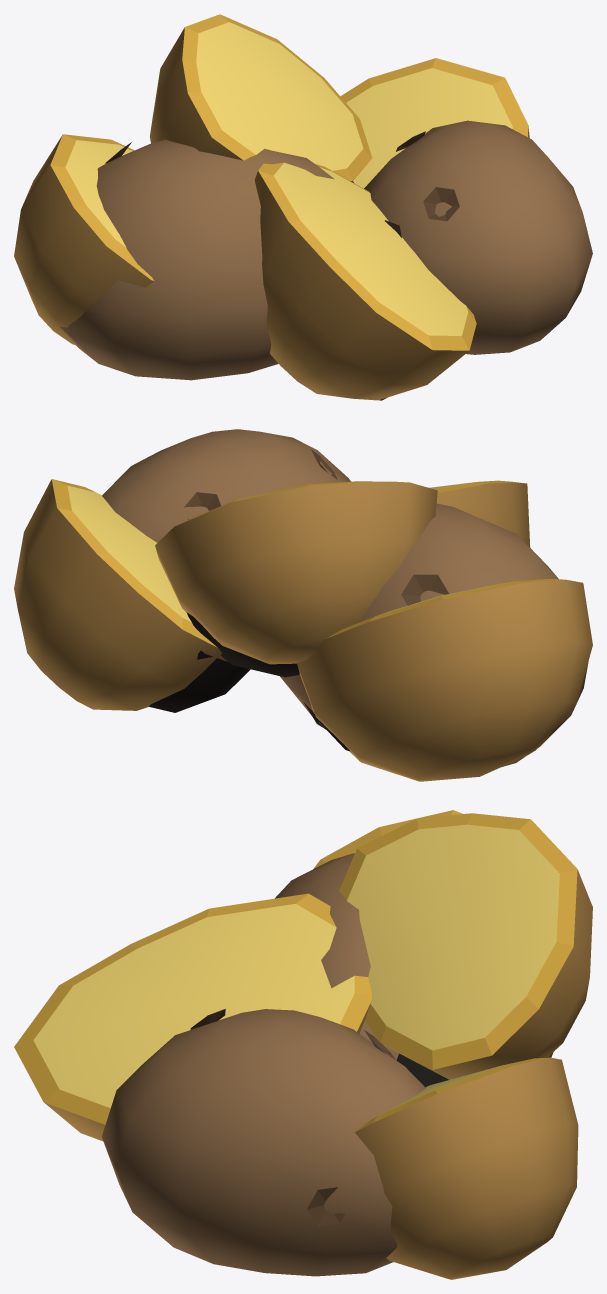
Rendered from cachelos.glb.
The picture shows the model from 3 angles, top to bottom: view 1: azimuth 30°, elevation 25°; view 2: azimuth 150°, elevation 25°; view 3: azimuth 270°, elevation 25°; orthographic projection. The views are drawn at different scales.
Parts seen in each view (by area): view 1: cachelos_cooked, cachelos_raw; view 2: cachelos_cooked, cachelos_raw, cachelos_burnt; view 3: cachelos_cooked, cachelos_raw, cachelos_burnt.
Boxes of the visible parts, <box> form: cachelos_cooked: <box>14,14,529,400</box>; cachelos_raw: <box>59,120,592,380</box>; cachelos_cooked: <box>14,479,592,781</box>; cachelos_raw: <box>102,429,588,766</box>; cachelos_burnt: <box>148,612,350,751</box>; cachelos_cooked: <box>14,810,592,1279</box>; cachelos_raw: <box>101,853,425,1276</box>; cachelos_burnt: <box>396,1053,448,1087</box>.
Size of the model in its own units: 0.4202 by 0.22 by 0.3557.
Materials: 4 (2 with a texture image).
